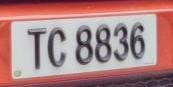3: (112, 20, 131, 66)
6: (129, 19, 148, 64)
8: (72, 22, 95, 71), (94, 20, 114, 68)
C: (45, 23, 70, 74)
T: (23, 23, 49, 76)
